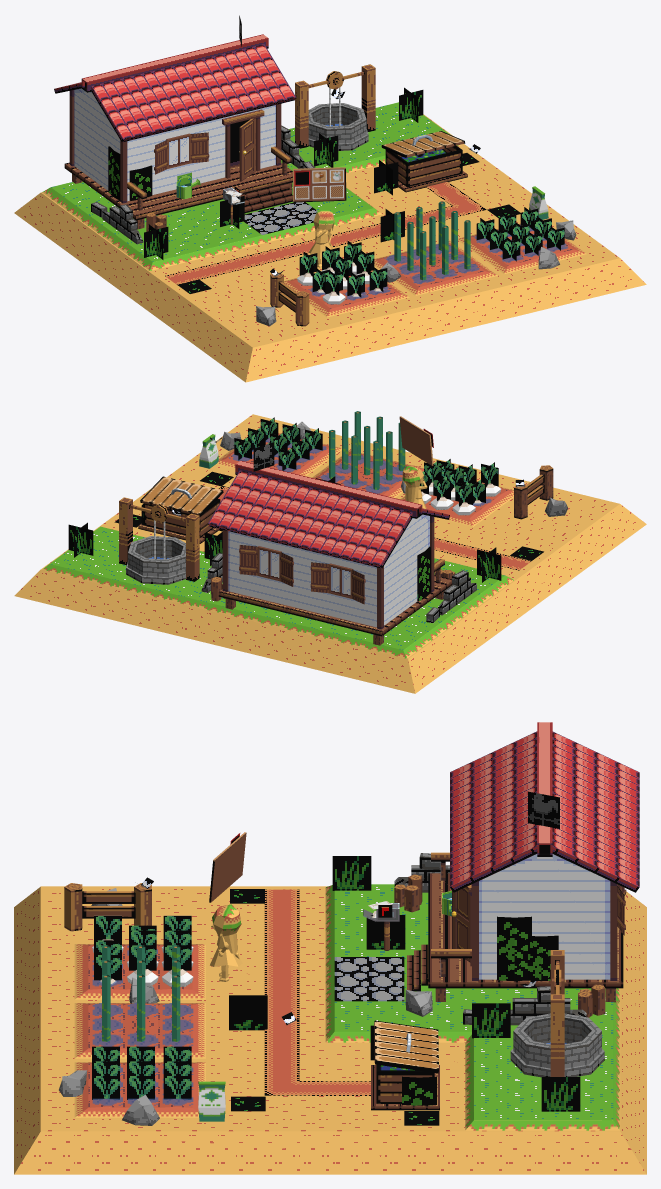
The model's file is farm.glb.
3 renders of one model, top to bottom at view 1: azimuth 30°, elevation 25°; view 2: azimuth 150°, elevation 25°; view 3: azimuth 270°, elevation 25°, orthographic. The views are drawn at different scales.
Parts seen in each view (by area): view 1: 1.Base, Casa_Base, 2.Grass.001, Casa_Simientos, Cylinder, Plane, Soil.1, Ship_Box, Thinking_Globe, Soil, Soil.002, Window (+17 smaller); view 2: 1.Base, Casa_Base, 2.Grass.001, Cylinder, Casa_Simientos, Ship_Box_Top, Soil.1, Window.002, Window.001, Ship_Box, Fence, Soil (+15 smaller); view 3: 1.Base, Casa_Base, 2.Grass.001, Plane, Casa_Simientos, Cylinder, Soil.1, Soil, Soil.002, Path_Stones, Ship_Box_Top, Fence (+27 smaller).
Part boxes in pixels (box(x1,y1,x2,y2)): 1.Base: box(14, 114, 646, 382); Casa_Base: box(54, 34, 296, 203); 2.Grass.001: box(42, 102, 462, 270); Casa_Simientos: box(64, 146, 292, 229); Cylinder: box(295, 64, 375, 150); Plane: box(165, 181, 486, 284); Soil.1: box(374, 240, 497, 295); Ship_Box: box(385, 145, 467, 192); Thinking_Globe: box(293, 167, 346, 202); Soil: box(284, 270, 409, 317); Soil.002: box(458, 223, 586, 274); Window: box(154, 132, 209, 174); 1.Base: box(14, 414, 646, 693); Casa_Base: box(208, 460, 449, 629); 2.Grass.001: box(42, 526, 514, 658); Cylinder: box(119, 497, 199, 584); Casa_Simientos: box(218, 559, 452, 645); Ship_Box_Top: box(140, 476, 223, 516); Soil.1: box(312, 450, 423, 497); Window.002: box(239, 545, 293, 586); Window.001: box(310, 562, 365, 604); Ship_Box: box(138, 499, 220, 543); Fence: box(514, 465, 553, 519); Soil: box(400, 481, 513, 526); 1.Base: box(14, 886, 646, 1174); Casa_Base: box(450, 722, 639, 980); 2.Grass.001: box(325, 884, 619, 1130); Plane: box(264, 889, 370, 1095); Casa_Simientos: box(407, 852, 623, 1002); Cylinder: box(510, 950, 604, 1077); Soil.1: box(74, 1003, 205, 1058); Soil: box(74, 944, 205, 999); Soil.002: box(74, 1062, 205, 1117); Path_Stones: box(334, 957, 404, 1001); Ship_Box_Top: box(374, 1020, 438, 1073); Fence: box(64, 883, 151, 931).
Bounding box in the file's own units: 5.15 × 2.14 × 5.15.
104 materials, 104 textured.
